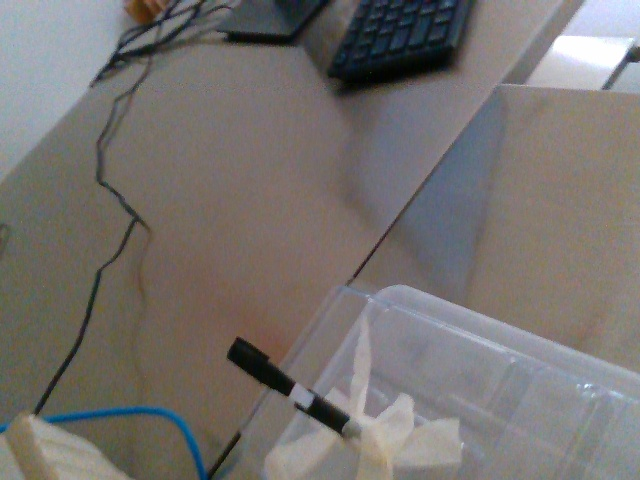test_strip: (223, 337, 315, 412)
